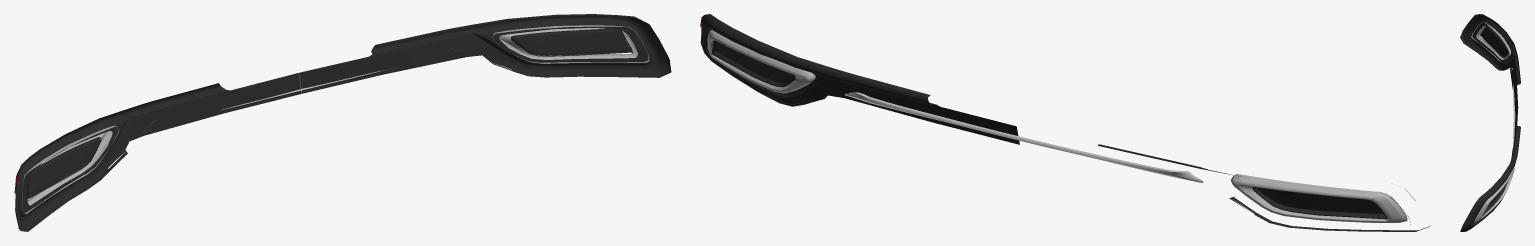
3 renders of one model, left to right at view 1: azimuth 30°, elevation 25°; view 2: azimuth 150°, elevation 25°; view 3: azimuth 270°, elevation 25°, orthographic. The views are drawn at different scales.
Parts seen in each view (by area): view 1: rear bumper 3; view 2: rear bumper 3; view 3: rear bumper 3.
Boxes of the visible parts, bbox=[...] form: rear bumper 3: bbox=[14, 14, 671, 231]; rear bumper 3: bbox=[700, 14, 1429, 231]; rear bumper 3: bbox=[1460, 14, 1520, 231].
Size of the model in its own units: 1.62 by 0.1365 by 0.2147.
4 materials, 1 textured.
